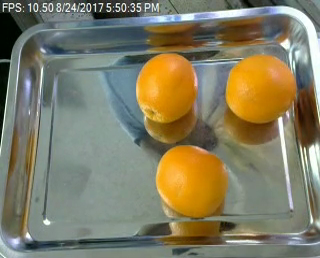Orange: (155, 143, 226, 216), (225, 53, 297, 123), (133, 51, 198, 121)
